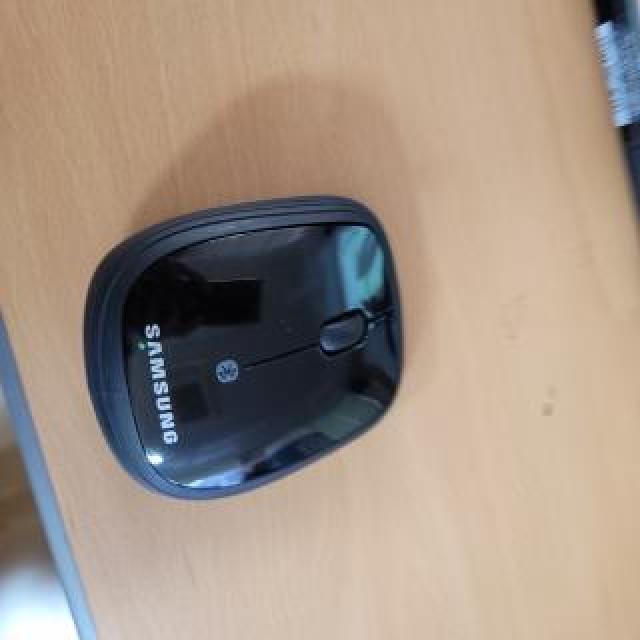mouse: (78, 186, 450, 502)
